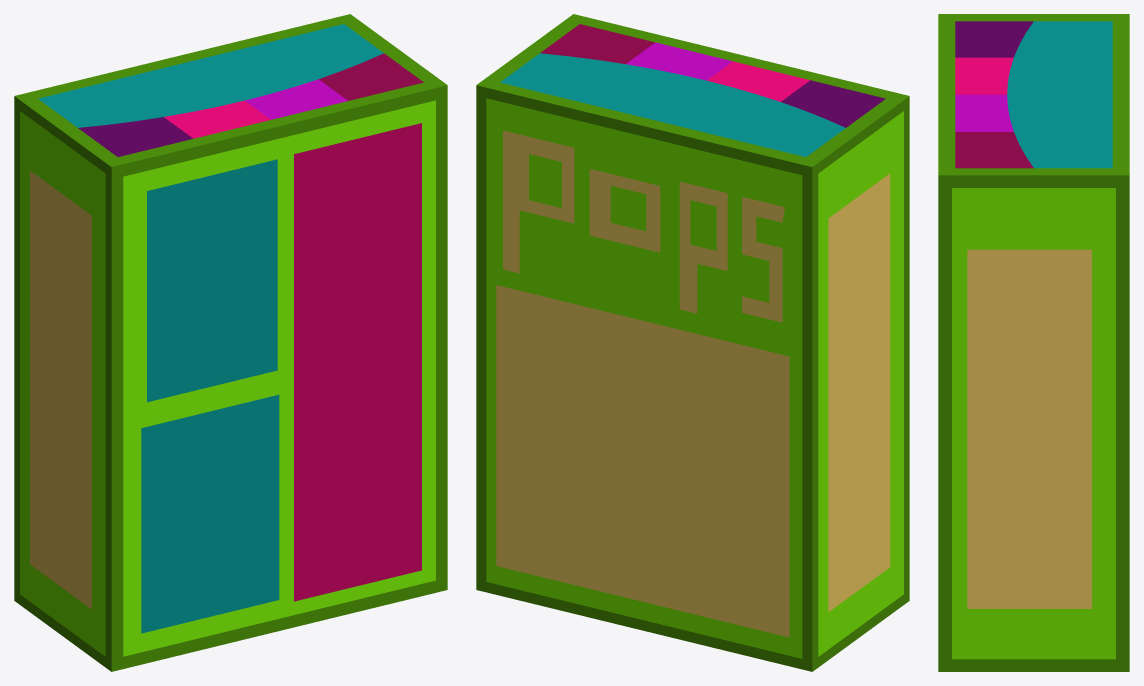
Rendered from Cereal.fbx.
3 renders of one model, left to right at view 1: azimuth 30°, elevation 25°; view 2: azimuth 150°, elevation 25°; view 3: azimuth 270°, elevation 25°, orthographic.
Parts seen in each view (by area): view 1: Model; view 2: Model; view 3: Model.
Boxes of the visible parts, <box> form: Model: <box>14,14,447,671</box>; Model: <box>476,14,909,671</box>; Model: <box>938,14,1129,671</box>.
Bounding box in the file's own units: 204 × 293 × 102.
